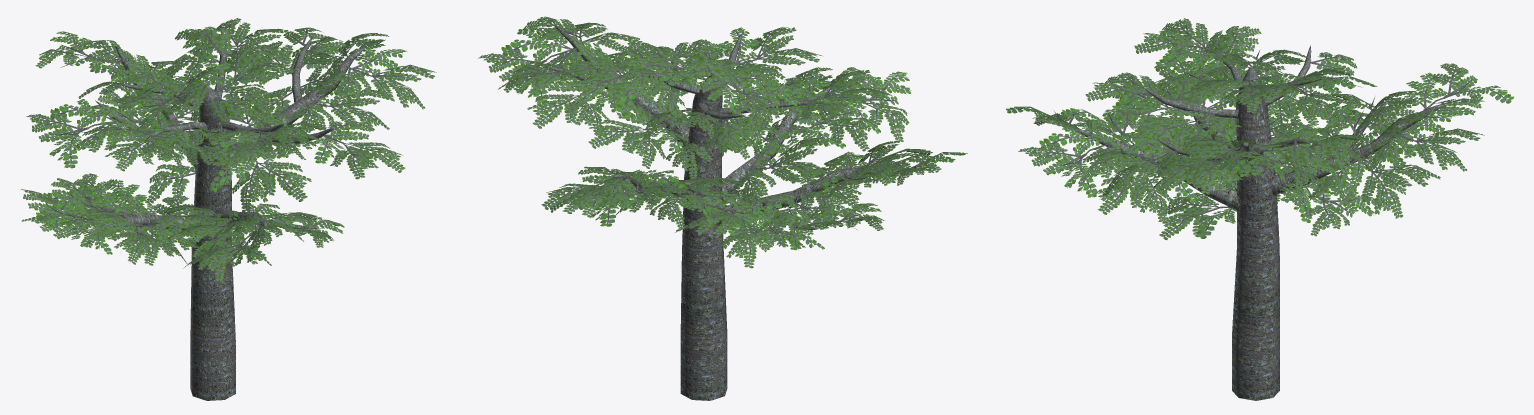
Rendered from Tree_03_v03.obj.
The picture shows the model from 3 angles, left to right: view 1: azimuth 30°, elevation 25°; view 2: azimuth 150°, elevation 25°; view 3: azimuth 270°, elevation 25°; orthographic projection. The views are drawn at different scales.
Visible parts, largest first — view 1: polySurface812; view 2: polySurface812; view 3: polySurface812.
Part boxes in pixels (left/top/right/bottom): polySurface812: left=20, top=18, right=436, bottom=400; polySurface812: left=478, top=16, right=967, bottom=400; polySurface812: left=1006, top=18, right=1513, bottom=400.
Size of the model in its own units: 210 by 155 by 216.
Materials: 1 (1 with a texture image).
